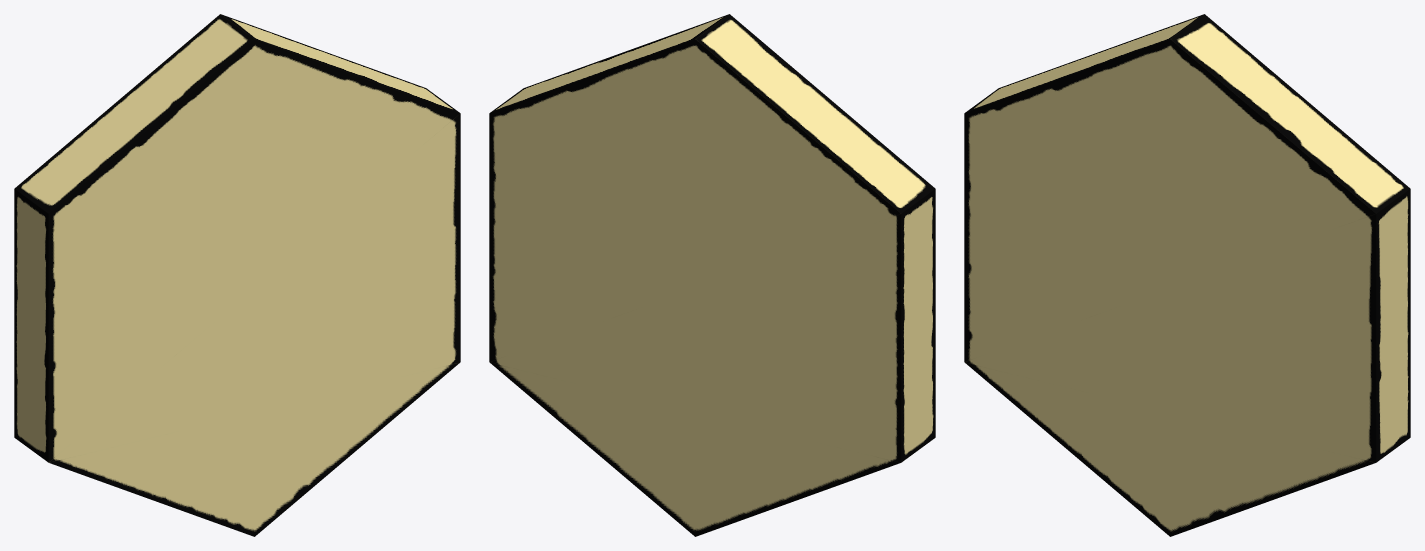
File: Sand Tile.glb
3 views of the same model, side by side, from view 1: azimuth 30°, elevation 25°; view 2: azimuth 150°, elevation 25°; view 3: azimuth 330°, elevation 25° (orthographic).
Parts seen in each view (by area): view 1: node_id3; view 2: node_id3; view 3: node_id3.
Boxes of the visible parts, x1,y1,x2,y2 form: node_id3: (14,14,460,536); node_id3: (489,14,935,536); node_id3: (964,14,1410,536).
Bounding box in the file's own units: 0.4434 × 0.512 × 0.064.
1 material, 1 textured.
